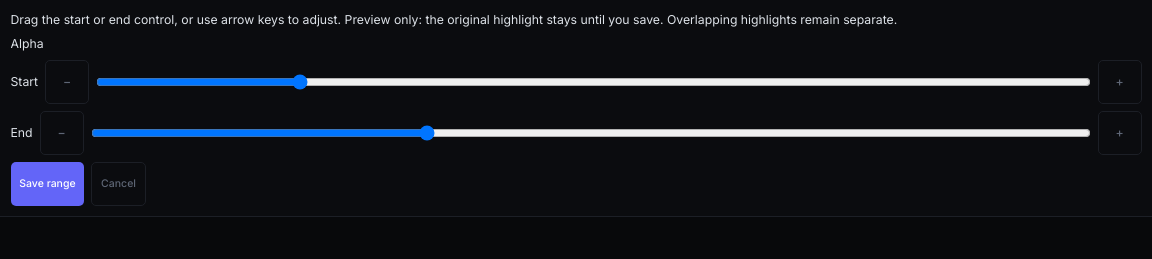
it: range editing confirmation › keeps a failed preview for retry, then applies only a confirmed current response
What coordinates should you click on to do the following:
click the button "Save range"
I would click on:
 (47, 184)
Its box is [10,162,84,206].
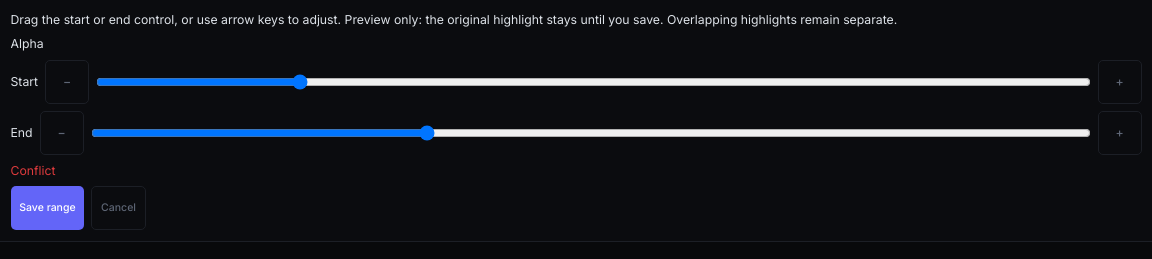
Check: the message reads "Conflict", box [10,162,56,178]
What coordinates should you click on to do the following:
click the button "Save range"
I would click on:
 (47, 208)
Its box is [10,186,84,230].
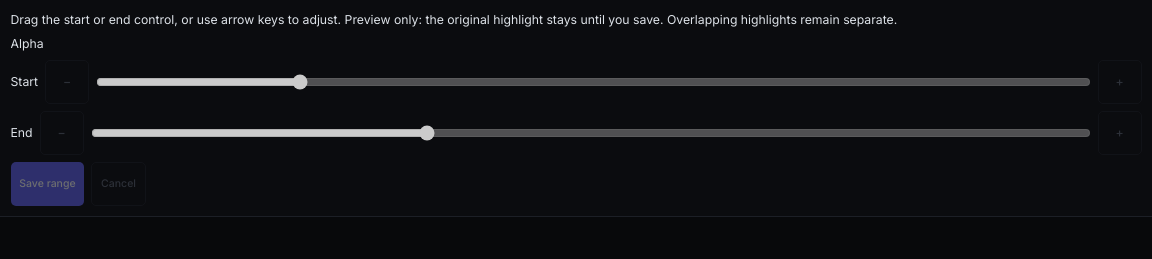
Check: the button "Cancel" is disabled, box [91,162,146,206]
